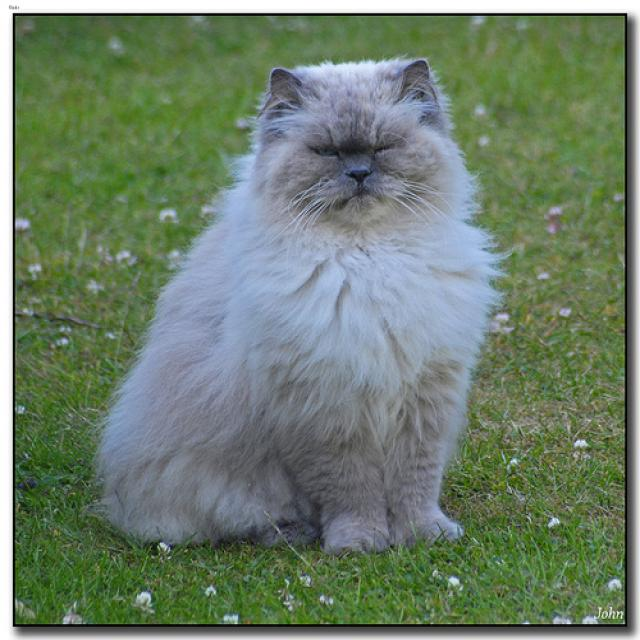cat: (268, 57, 438, 222)
